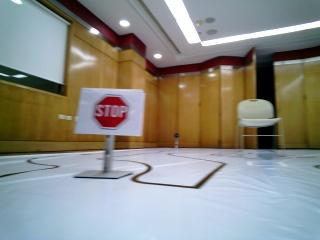stop: (80, 86, 142, 136)
